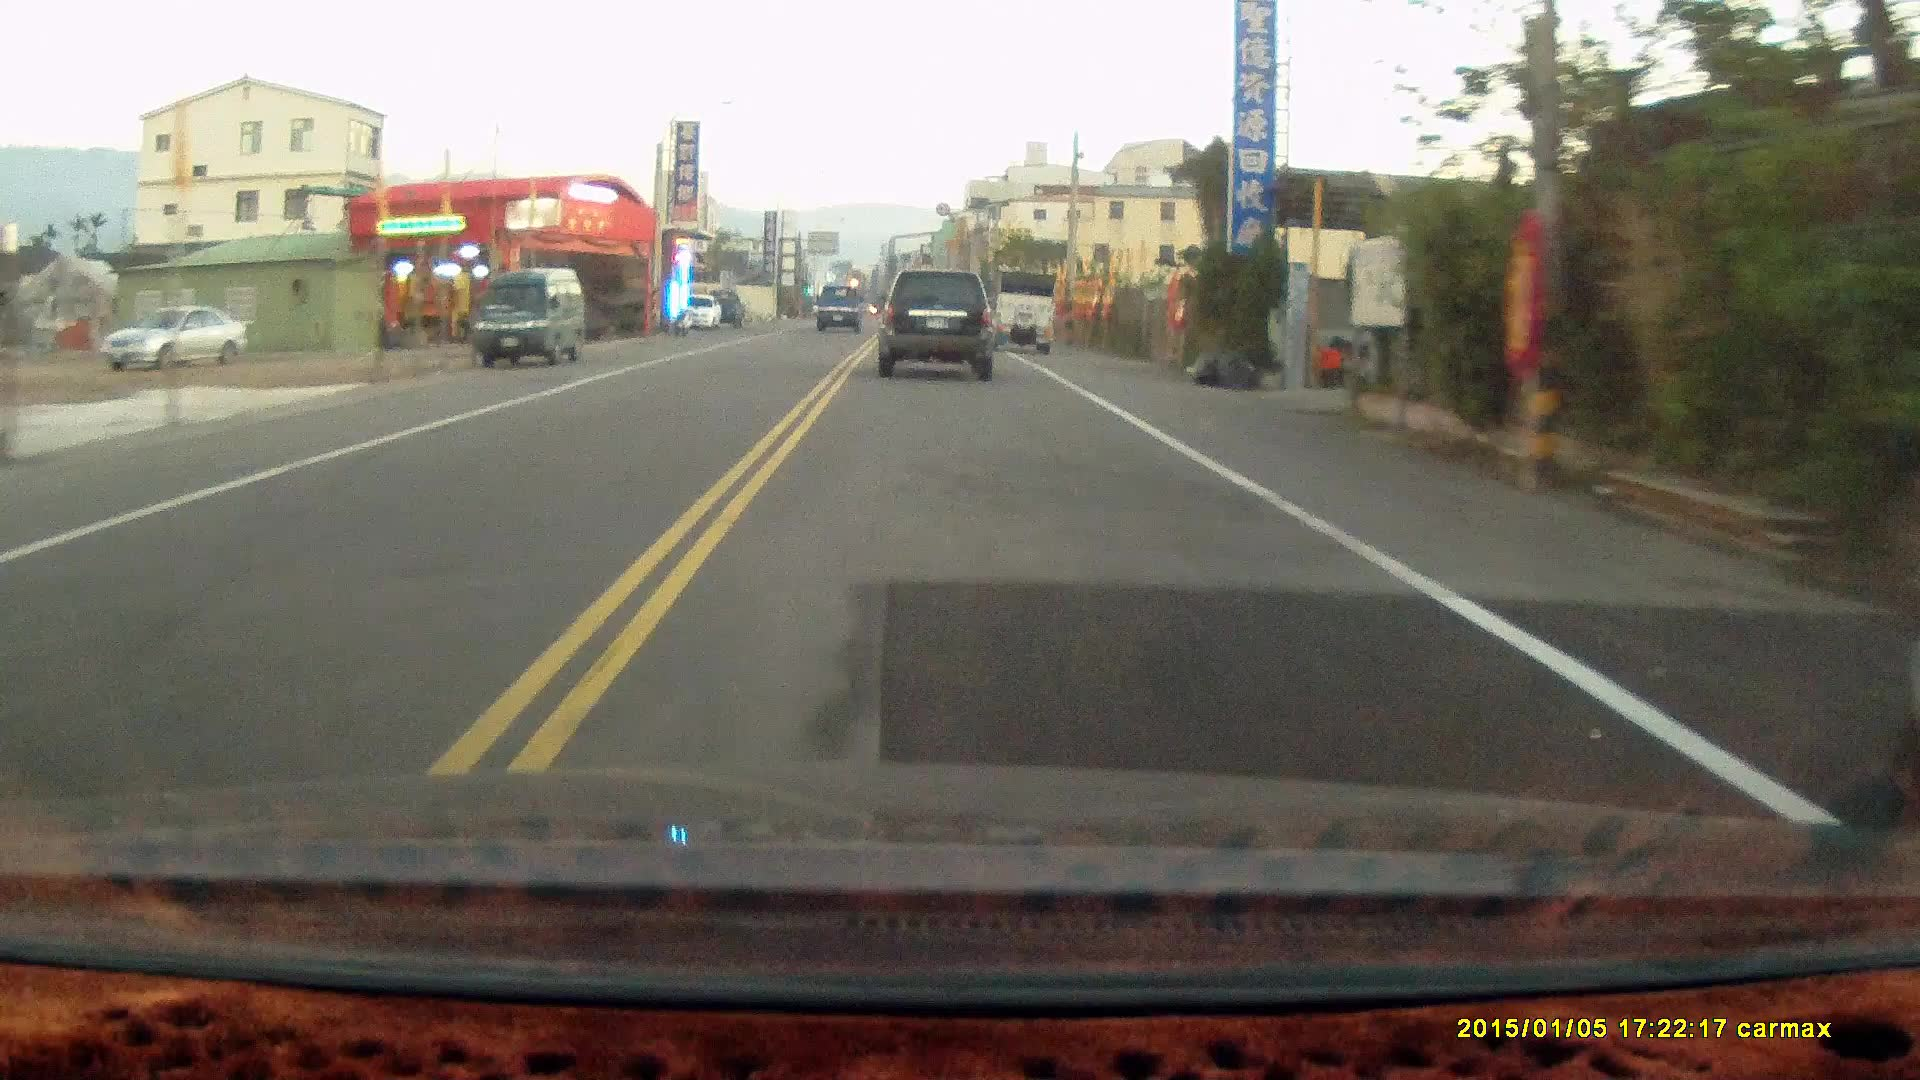vehicle: (869, 266, 1005, 386), (473, 264, 585, 371), (99, 305, 251, 376), (980, 273, 1058, 359), (815, 286, 866, 335)
